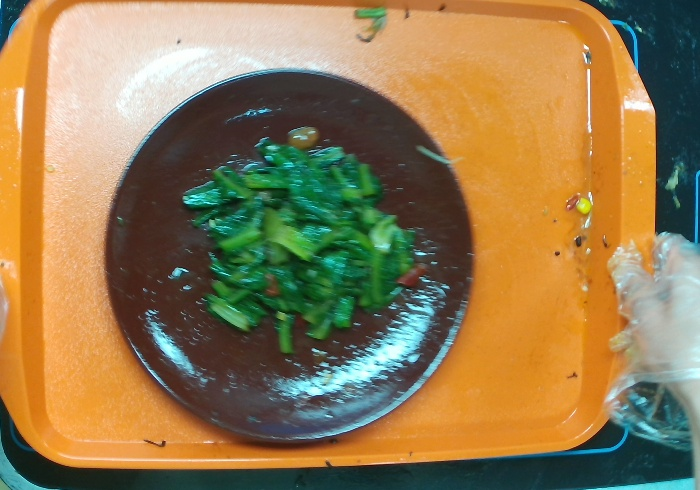HZYJPL-Ka_Fei_Yuan_Pan: (101, 72, 472, 444)
